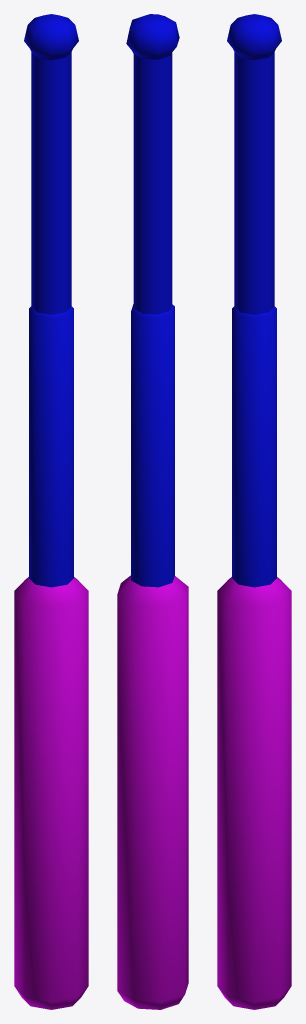
The model's file is porra.fbx.
3 renders of one model, left to right at view 1: azimuth 90°, elevation 25°; view 2: azimuth 150°, elevation 25°; view 3: azimuth 270°, elevation 25°, orthographic.
Visible parts, largest first — view 1: porra; view 2: porra; view 3: porra.
Boxes of the visible parts, x1=… form: porra: x1=14, y1=14, x2=88, y2=1009; porra: x1=117, y1=14, x2=188, y2=1009; porra: x1=217, y1=14, x2=291, y2=1009.
Bounding box in the file's own units: 0.1239 × 1.81 × 0.1239.
